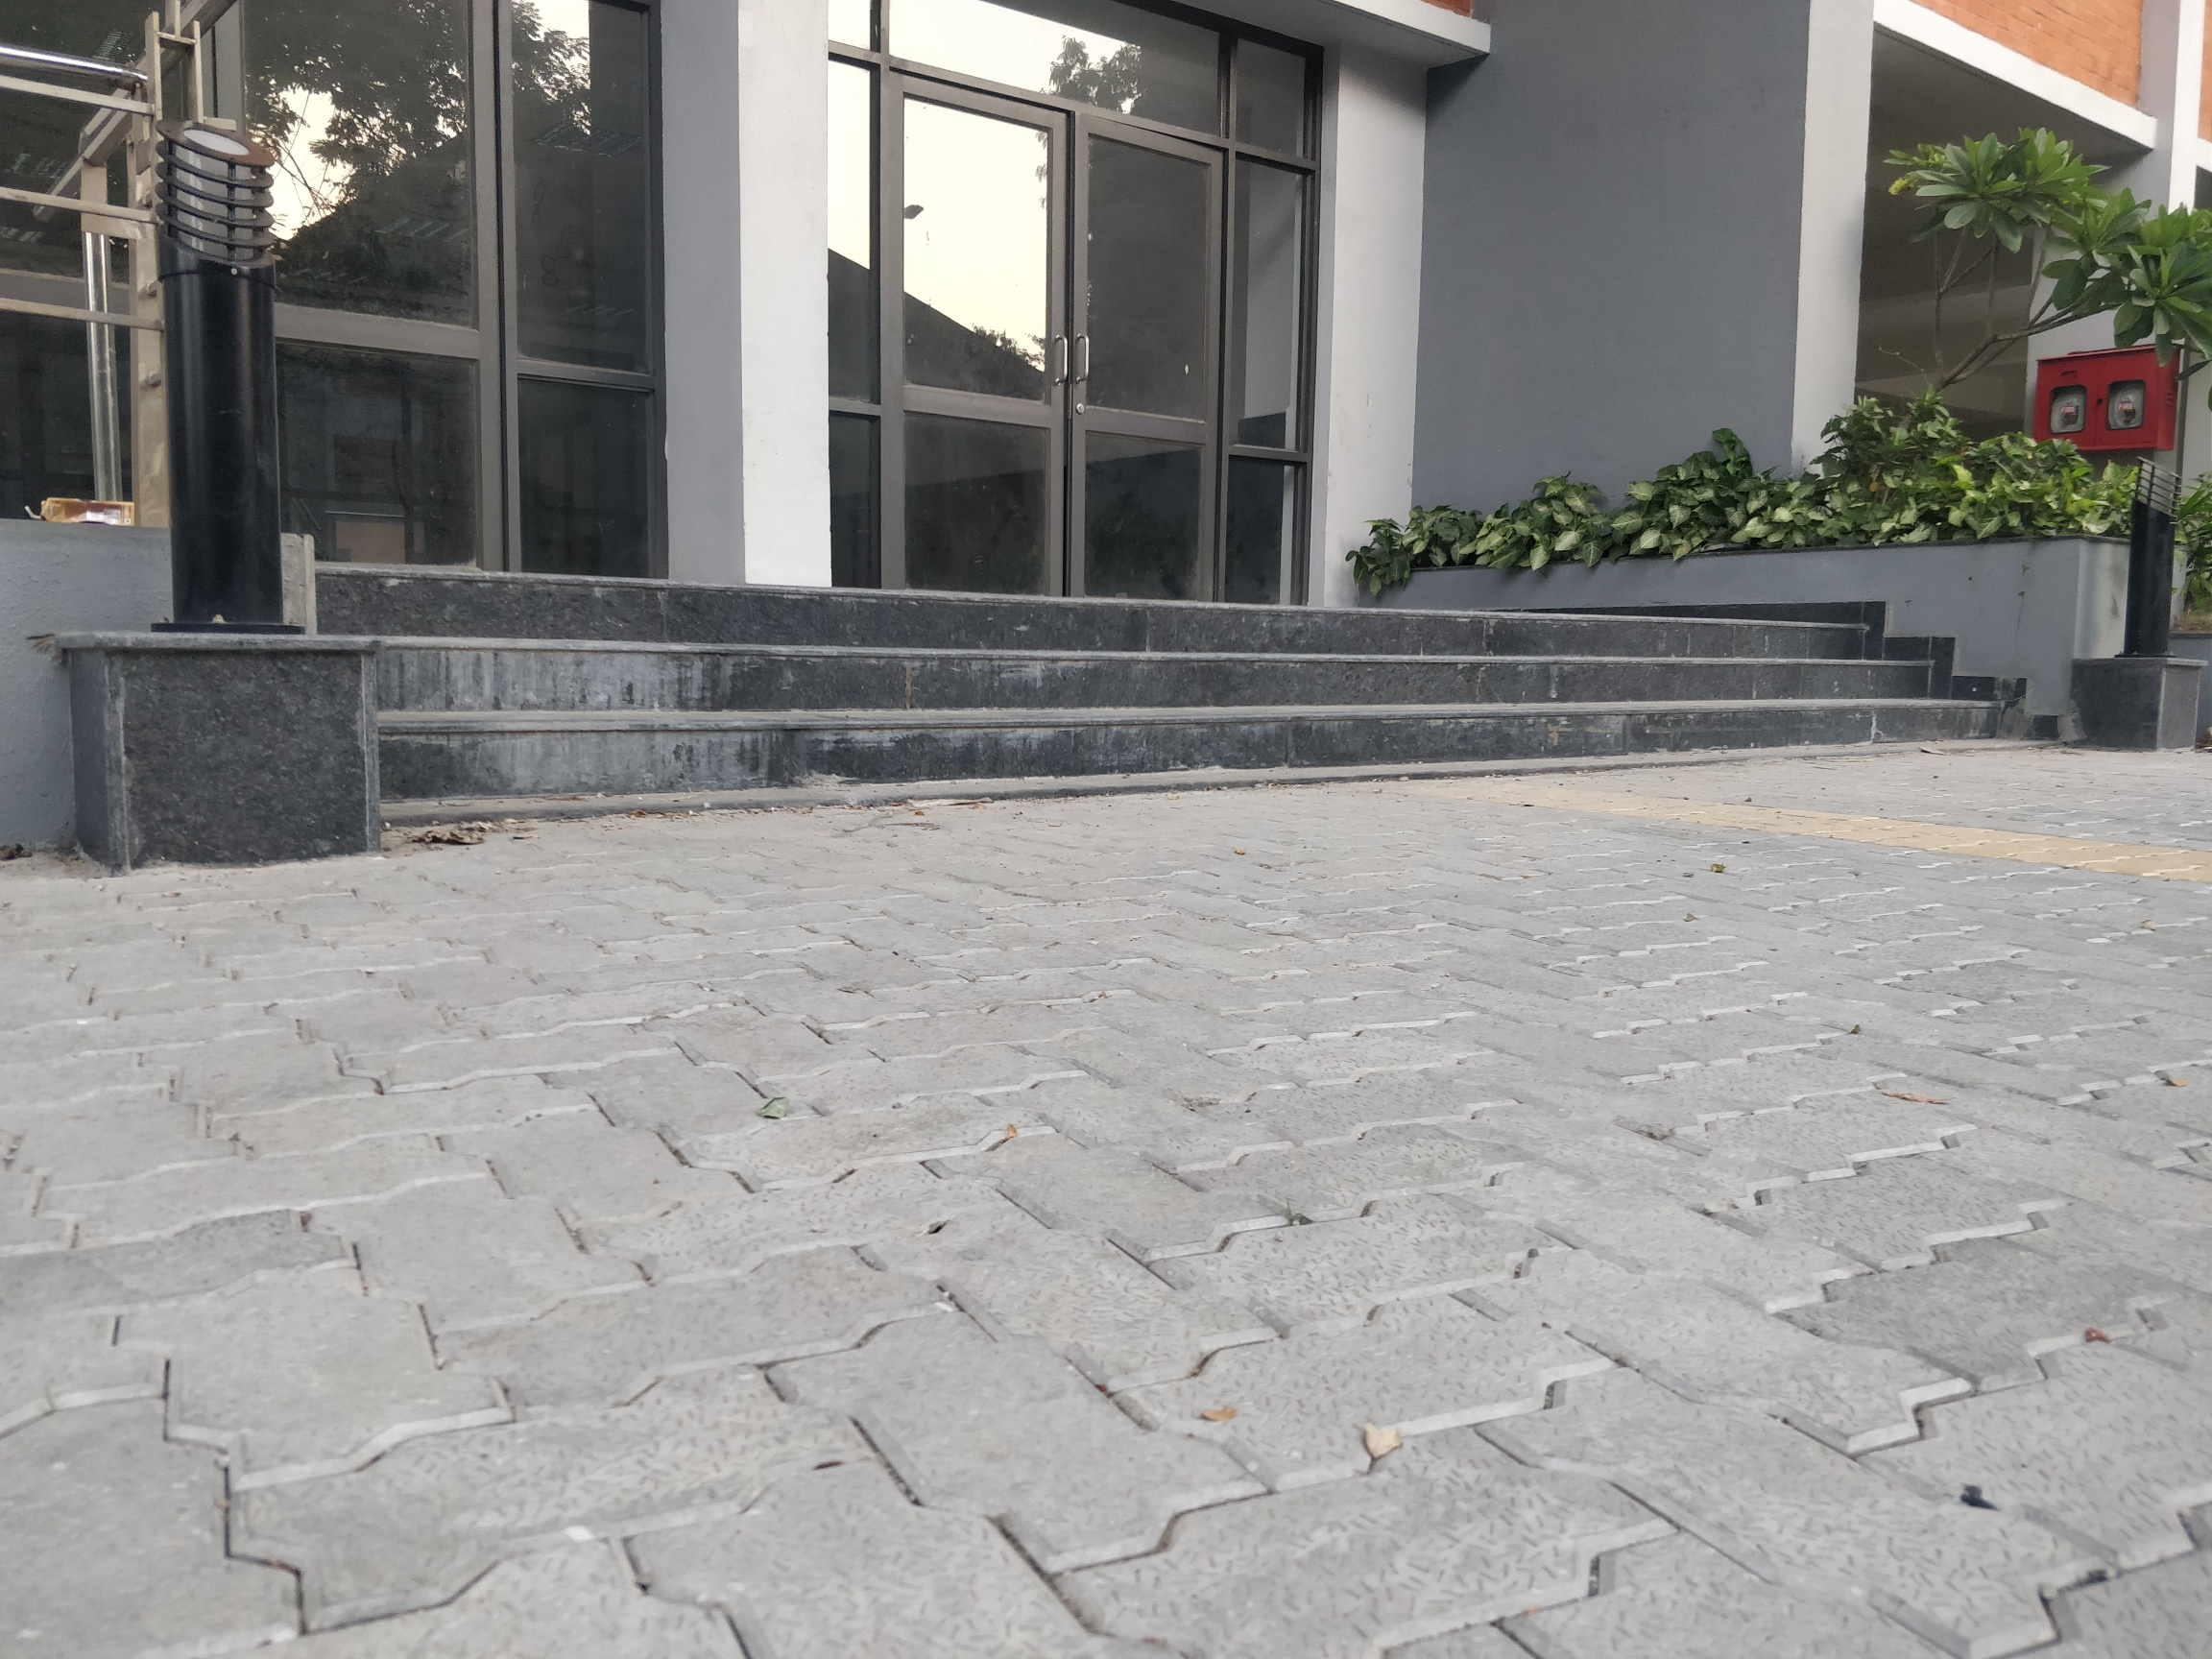stairs_up: (366, 561, 2047, 795)
